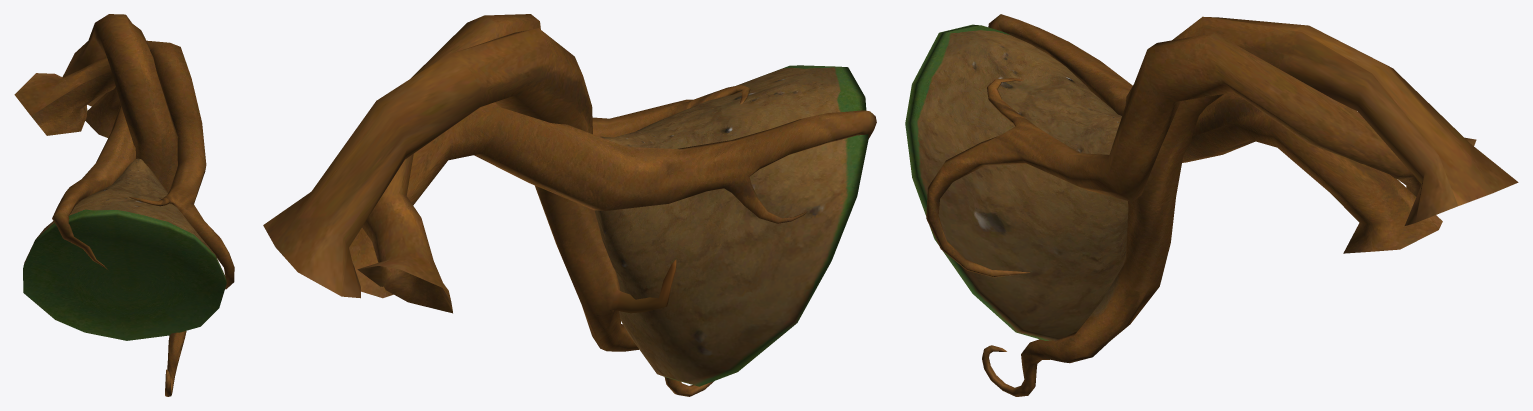
The model's file is RootPlatformShape35.dae.
3 views of the same model, side by side, from view 1: azimuth 30°, elevation 25°; view 2: azimuth 150°, elevation 25°; view 3: azimuth 270°, elevation 25° (orthographic). The views are drawn at different scales.
Parts seen in each view (by area): view 1: RootPlatform35; view 2: RootPlatform35; view 3: RootPlatform35.
Boxes of the visible parts, left/top/right/bottom form: RootPlatform35: left=14, top=14, right=234, bottom=396; RootPlatform35: left=263, top=14, right=876, bottom=396; RootPlatform35: left=905, top=14, right=1518, bottom=396.
Size of the model in its own units: 17.81 by 19.39 by 26.56.
